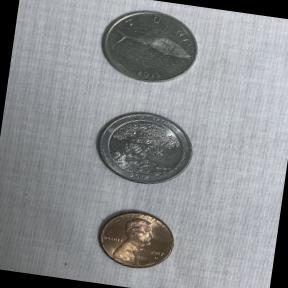Croatia-2Kune-B: (91, 2, 207, 94)
US-1cent-B: (89, 202, 181, 276)
US-25cent-B: (86, 103, 200, 196)
